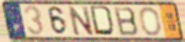3: (23, 4, 46, 37)
6: (47, 5, 68, 36)
B: (113, 6, 140, 37)
D: (89, 5, 117, 38)
N: (66, 5, 96, 37)
O: (138, 6, 163, 37)
